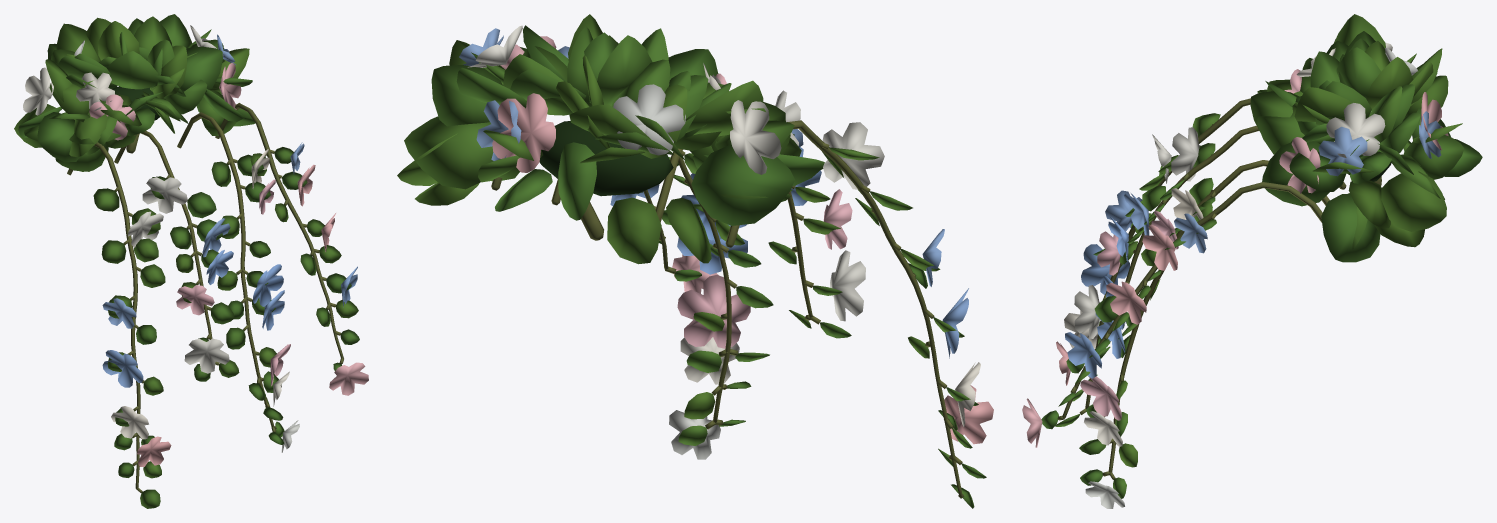
The model's file is box_petunia_white.glb.
3 renders of one model, left to right at view 1: azimuth 30°, elevation 25°; view 2: azimuth 150°, elevation 25°; view 3: azimuth 270°, elevation 25°, orthographic. The views are drawn at different scales.
Visible parts, largest first — view 1: Sammel Pflanze, Sammel Putz, Sammel Blatt; view 2: Sammel Pflanze, Sammel Putz, Sammel Blatt; view 3: Sammel Pflanze, Sammel Putz.
Boxes of the visible parts, bbox=[...] form: Sammel Pflanze: bbox=[14, 14, 368, 508]; Sammel Putz: bbox=[67, 103, 343, 492]; Sammel Blatt: bbox=[111, 86, 159, 120]; Sammel Pflanze: bbox=[397, 14, 993, 508]; Sammel Putz: bbox=[491, 120, 963, 498]; Sammel Blatt: bbox=[539, 121, 673, 196]; Sammel Pflanze: bbox=[1022, 14, 1482, 508]; Sammel Putz: bbox=[1057, 98, 1381, 479].
Size of the model in its own units: 0.3501 by 0.4978 by 0.4761.
